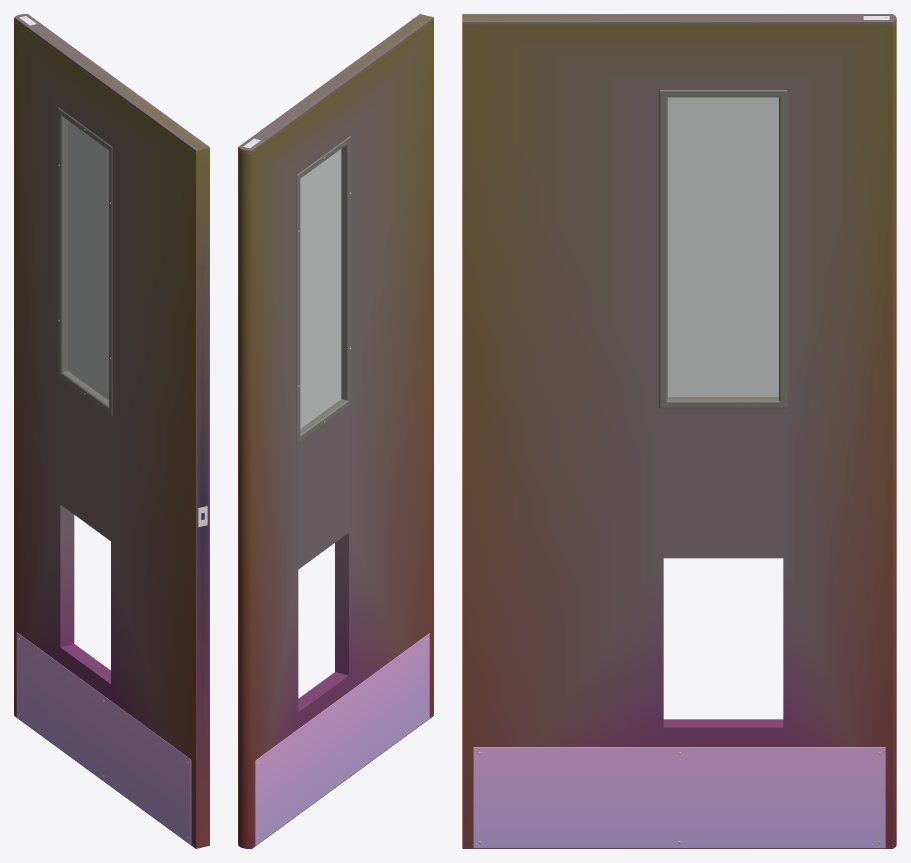
Rendered from Kit_DoorLeaf_SteelLouvre_DA.fbx.
The picture shows the model from 3 angles, left to right: view 1: azimuth 30°, elevation 25°; view 2: azimuth 150°, elevation 25°; view 3: azimuth 270°, elevation 25°; orthographic projection. The views are drawn at different scales.
Parts seen in each view (by area): view 1: Kit_DoorLeaf_SteelLouvre_DA_LOD0; view 2: Kit_DoorLeaf_SteelLouvre_DA_LOD0; view 3: Kit_DoorLeaf_SteelLouvre_DA_LOD0.
Boxes of the visible parts, bbox=[...] form: Kit_DoorLeaf_SteelLouvre_DA_LOD0: bbox=[14, 14, 209, 848]; Kit_DoorLeaf_SteelLouvre_DA_LOD0: bbox=[238, 14, 433, 848]; Kit_DoorLeaf_SteelLouvre_DA_LOD0: bbox=[462, 14, 896, 848].
Size of what is drawn, in the model's own units: 0.0498 by 2.08 by 0.9902.
